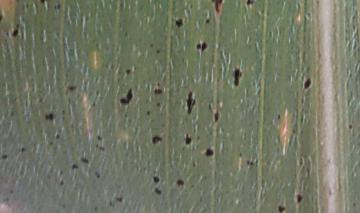tarspot: (184, 90, 197, 115), (118, 88, 134, 105), (232, 67, 242, 89), (209, 1, 223, 14), (150, 135, 163, 146), (302, 76, 312, 90), (183, 132, 193, 146), (203, 147, 215, 158), (174, 17, 184, 29), (200, 40, 208, 55), (296, 155, 304, 170), (152, 185, 163, 195), (43, 112, 54, 122), (325, 186, 334, 198), (213, 109, 220, 124), (58, 178, 68, 188), (9, 28, 20, 37), (93, 169, 102, 180), (276, 204, 286, 213), (153, 87, 163, 96), (175, 178, 184, 187), (151, 175, 160, 184), (67, 84, 76, 93), (70, 162, 79, 171), (115, 195, 124, 204), (295, 193, 303, 203), (107, 198, 115, 208), (244, 1, 256, 7), (19, 145, 27, 154), (1, 153, 10, 161), (78, 156, 88, 163), (94, 89, 101, 99), (154, 48, 162, 56), (350, 201, 358, 209), (194, 42, 201, 51), (54, 132, 61, 141), (98, 144, 105, 153), (58, 169, 65, 178), (124, 68, 132, 75), (95, 134, 103, 141), (55, 2, 62, 10), (195, 134, 202, 142), (60, 108, 67, 116), (148, 41, 155, 49), (9, 110, 15, 119), (203, 17, 210, 24), (154, 101, 161, 108), (275, 113, 281, 121), (248, 160, 254, 168), (8, 187, 14, 195), (14, 21, 20, 29), (348, 122, 353, 131), (191, 160, 196, 169), (207, 101, 212, 110), (145, 109, 151, 116), (47, 140, 54, 146), (244, 159, 250, 166), (237, 151, 243, 158), (1, 11, 4, 23), (91, 101, 96, 108), (38, 1, 46, 4), (14, 1, 21, 3)
